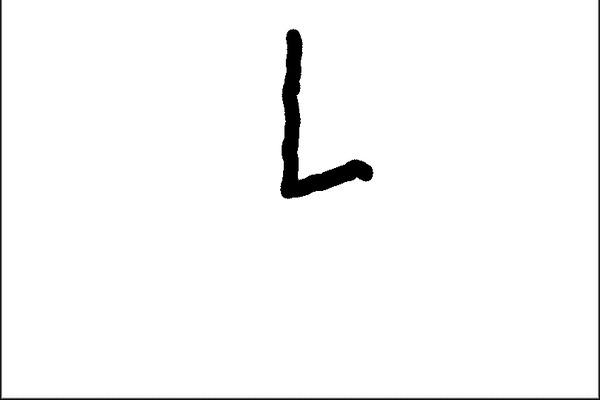L: (269, 22, 380, 204)
